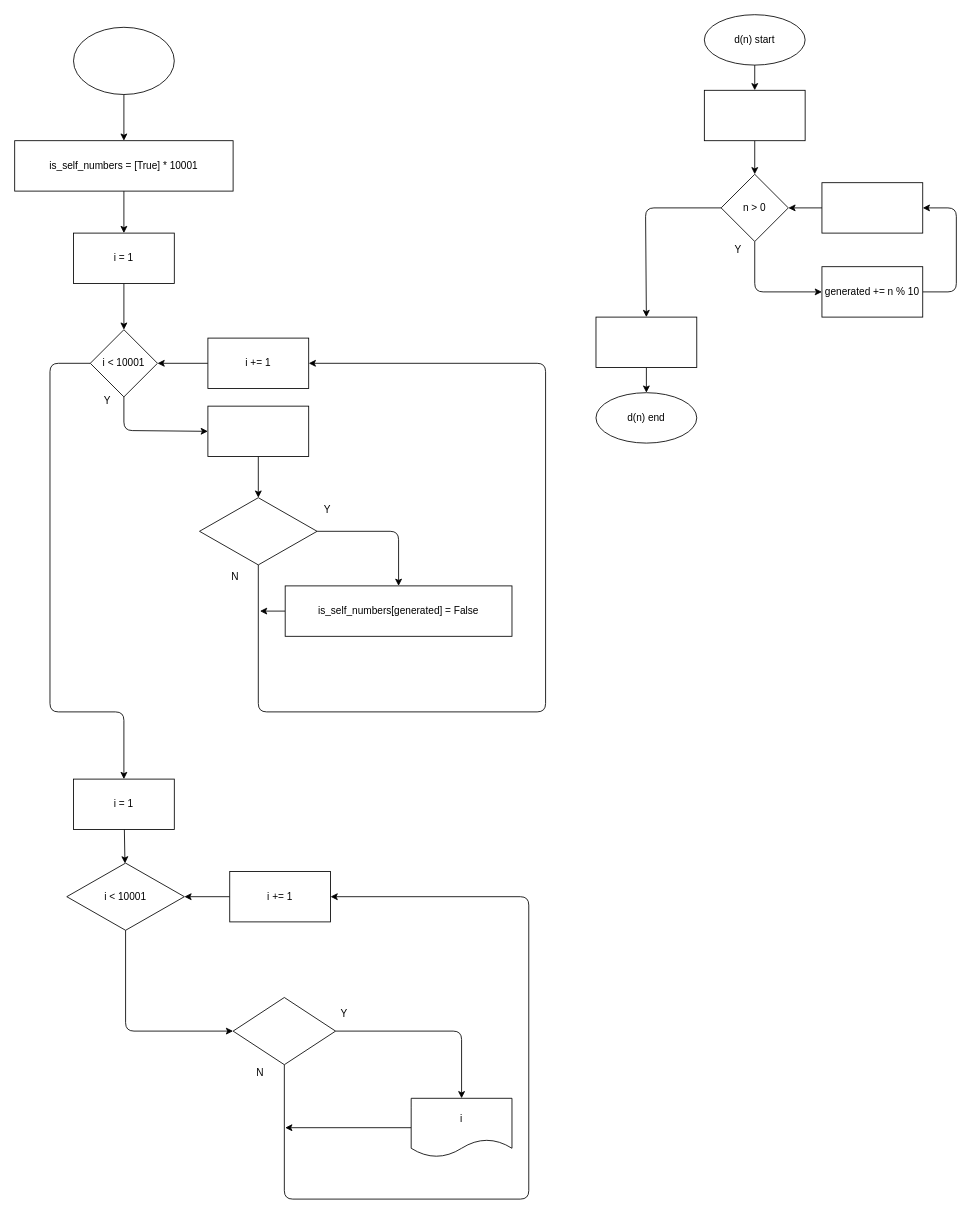
This 978x1221 diagram has some shape labels left out. The shapes that lost their labels are listed below. From the top down, each one's centre as x and y in pixels, then its label:
the point at 123,60: start
the point at 754,115: generated = n
the point at 872,207: n //= 10
the point at 646,342: return generated
the point at 258,431: generated = d(i)
the point at 258,531: generated < 10001
the point at 284,1031: is_self_numbers[i]
